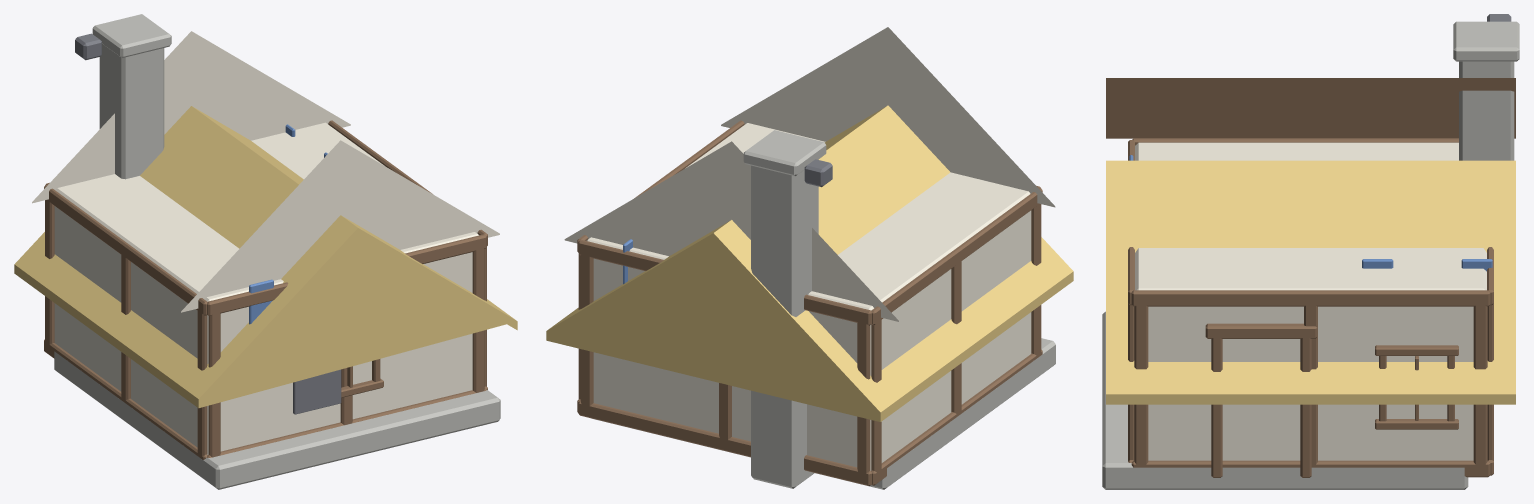
Rendered from town_timber_house_small.glb.
3 views of the same model, side by side, from view 1: azimuth 30°, elevation 25°; view 2: azimuth 150°, elevation 25°; view 3: azimuth 270°, elevation 25° (orthographic). The views are drawn at different scales.
Visible parts, largest first — view 1: world; view 2: world; view 3: world.
Part boxes in pixels (x1,y1,x2,y2): world: (14,14,517,489); world: (546,27,1073,489); world: (1102,14,1519,489).
Size of the model in its own units: 1.96 by 1.85 by 2.
